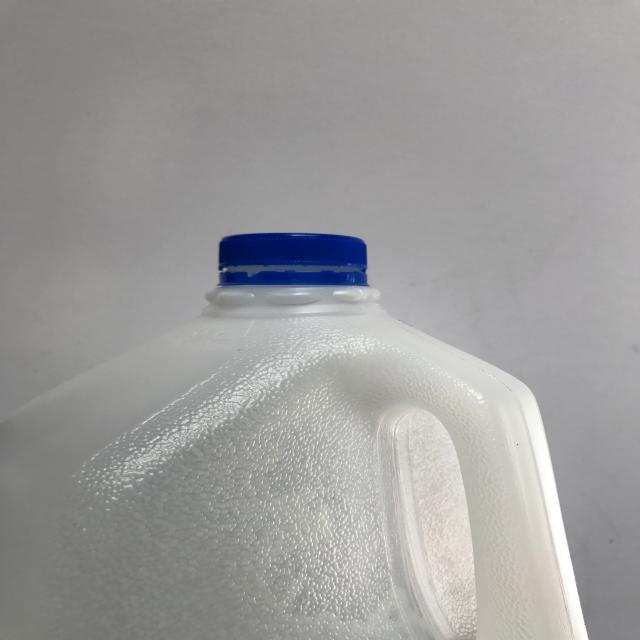Plastic: (0, 196, 597, 640)
